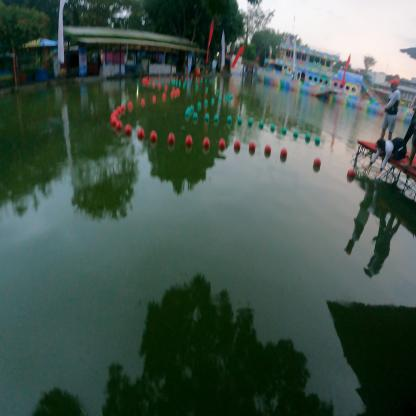green_buoy: (204, 112, 210, 122), (305, 132, 311, 142), (248, 117, 253, 127), (270, 122, 275, 132), (185, 110, 190, 119), (315, 136, 320, 145), (214, 114, 219, 122), (293, 131, 298, 139), (259, 120, 263, 129), (194, 112, 198, 120), (238, 117, 242, 125), (282, 126, 286, 134), (227, 116, 231, 123)
red_buoy: (168, 132, 175, 146), (150, 131, 157, 144), (138, 128, 144, 142), (111, 116, 117, 129), (116, 121, 123, 132), (203, 138, 210, 149), (249, 141, 256, 152), (348, 170, 355, 181), (125, 125, 132, 135), (265, 144, 272, 154), (280, 148, 287, 158), (186, 136, 192, 147), (234, 140, 240, 150), (314, 158, 320, 168), (219, 138, 224, 148)
